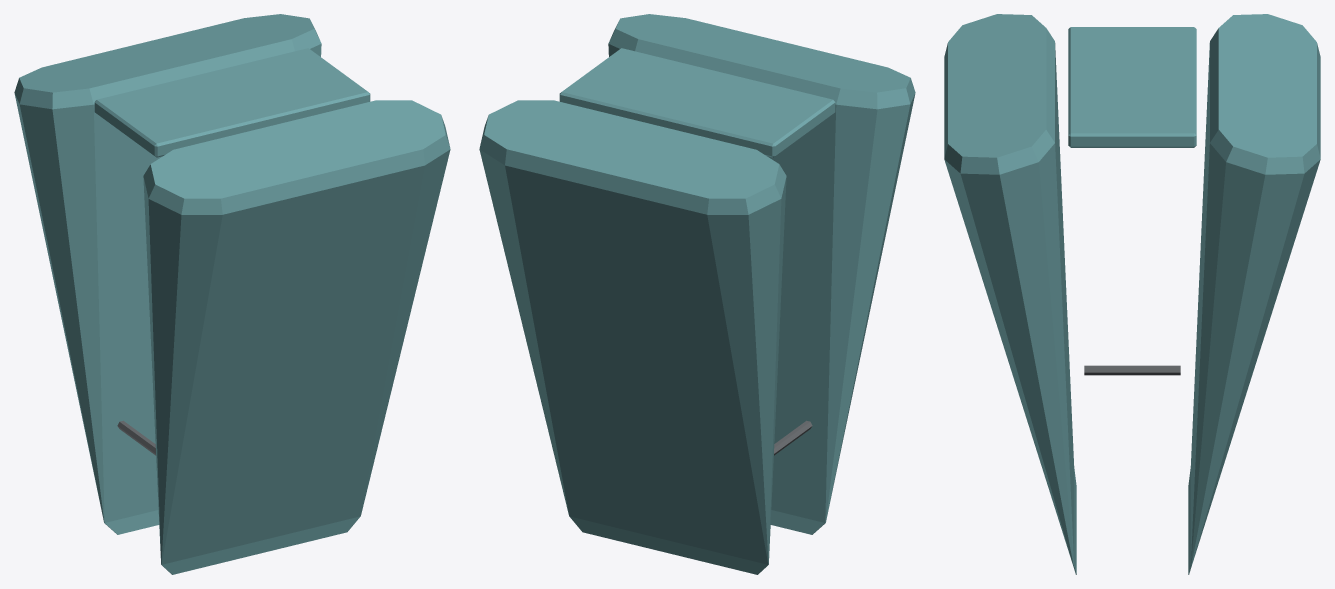
Rendered from hotel-and-resort-operations-cleaning-in-progress-sign-2f37cf21__25896.glb.
3 views of the same model, side by side, from view 1: azimuth 30°, elevation 25°; view 2: azimuth 150°, elevation 25°; view 3: azimuth 270°, elevation 25° (orthographic). The views are drawn at different scales.
Visible parts, largest first — view 1: cleaning-in-progress-sign; view 2: cleaning-in-progress-sign; view 3: cleaning-in-progress-sign.
Boxes of the visible parts, x1=… form: cleaning-in-progress-sign: x1=14, y1=14, x2=450, y2=574; cleaning-in-progress-sign: x1=479, y1=14, x2=915, y2=574; cleaning-in-progress-sign: x1=944, y1=14, x2=1320, y2=574.
Size of the model in its own units: 0.44 by 0.622 by 0.4694.
